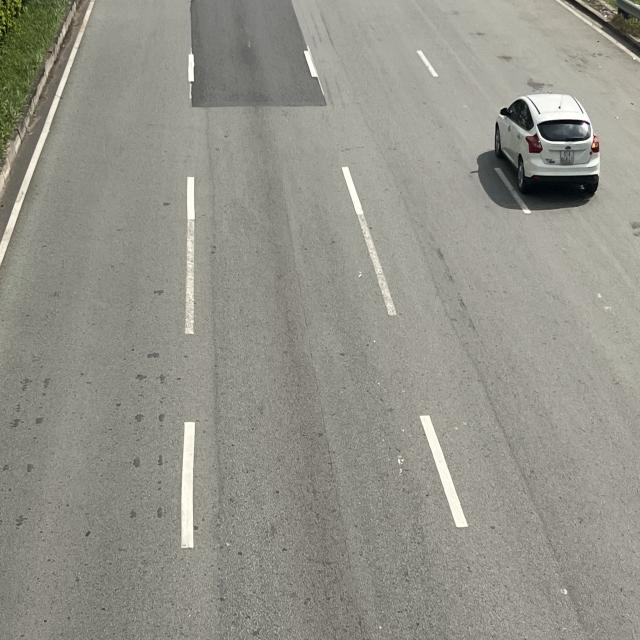car: (493, 92, 601, 196)
